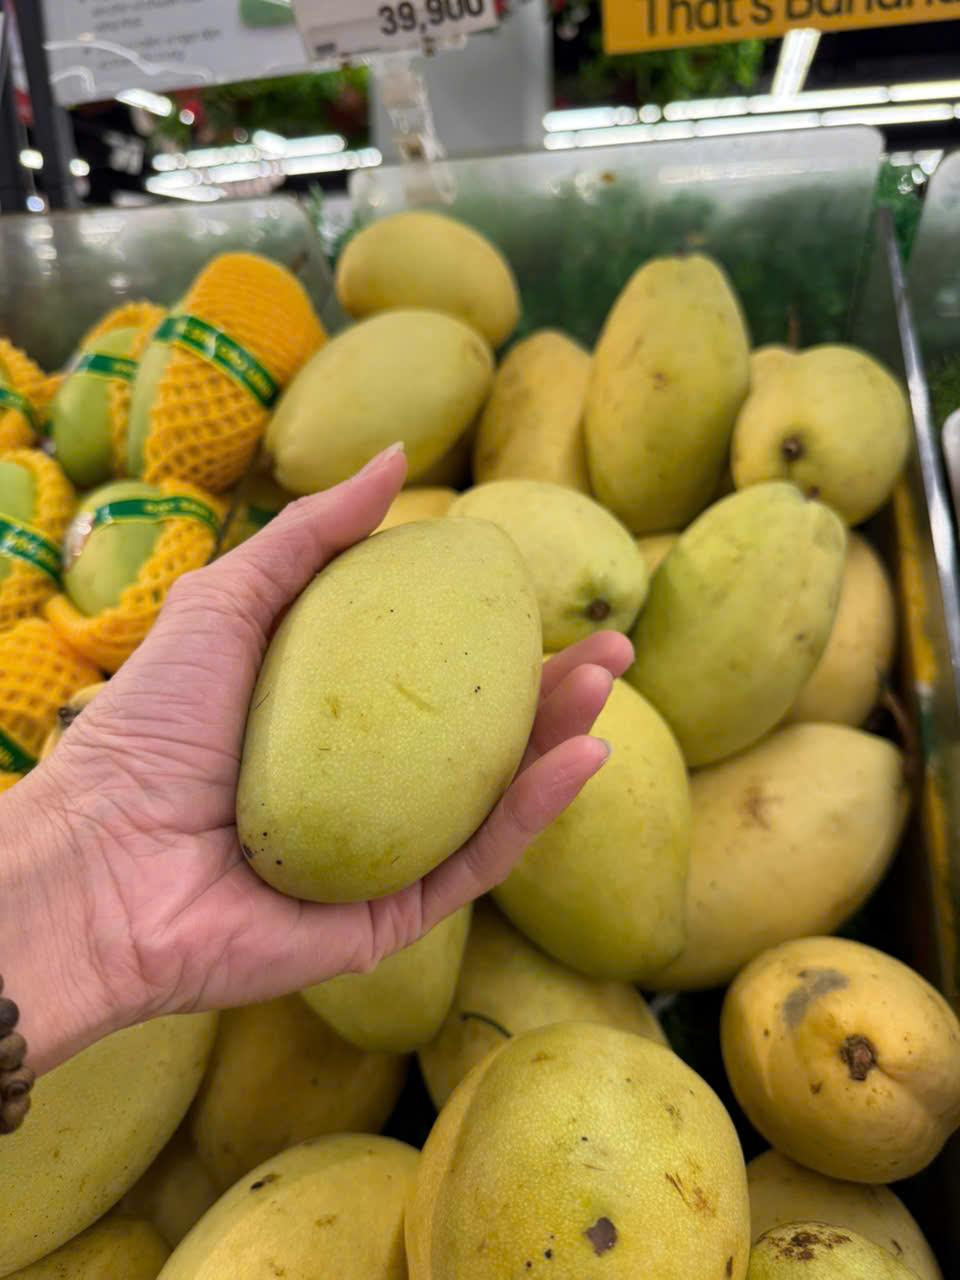mango: (240, 516, 528, 872), (400, 1016, 754, 1280), (712, 936, 960, 1192), (622, 466, 844, 736), (700, 736, 938, 930), (260, 303, 496, 492), (590, 263, 748, 524), (180, 1120, 422, 1280), (730, 331, 936, 514), (338, 213, 520, 324)
